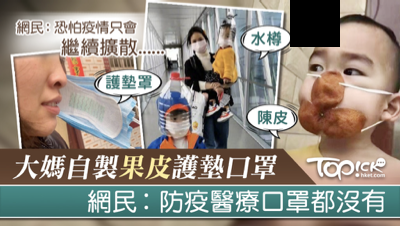with_mask: (299, 46, 386, 141), (162, 111, 192, 137), (191, 35, 208, 54), (218, 29, 235, 48)
without_mask: (14, 52, 68, 137)
